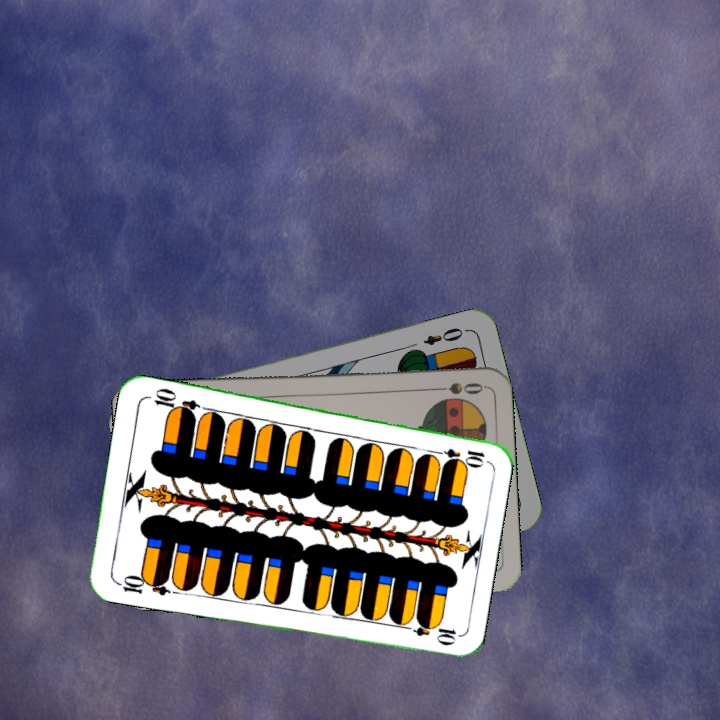E10: (112, 570, 171, 599), (428, 444, 488, 466)
EO: (419, 323, 470, 348)
SO: (426, 378, 486, 397)
